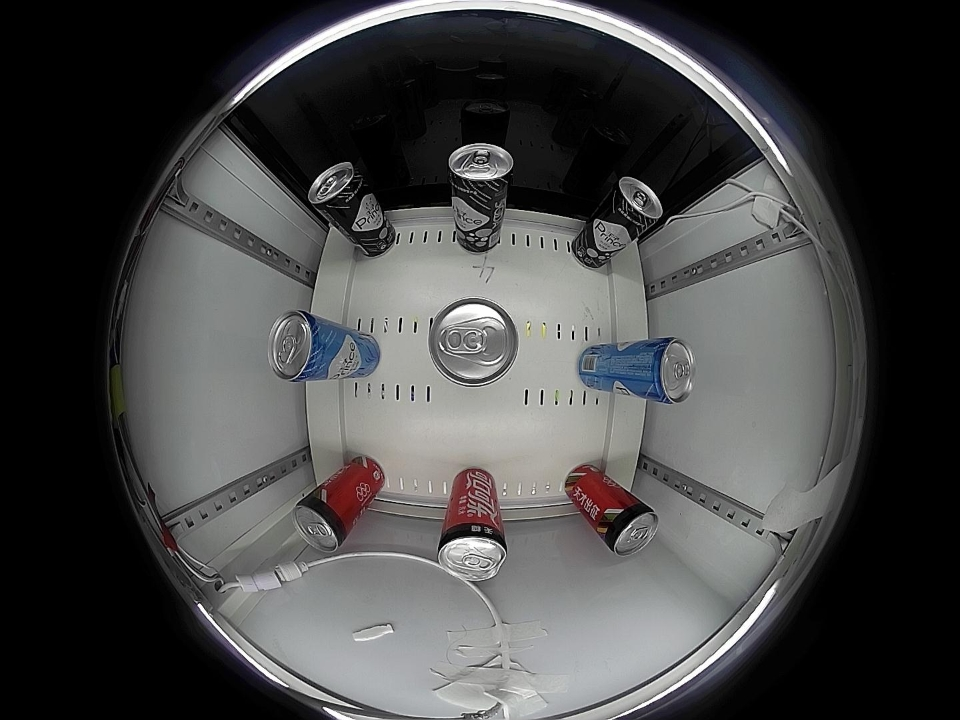lingdukele: (437, 517, 509, 582), (600, 499, 659, 557), (293, 495, 352, 552)
qingdaowangzi-1: (447, 142, 514, 205), (308, 162, 367, 219), (608, 176, 664, 232)
qingdaowangzi-2: (427, 297, 521, 387), (267, 310, 329, 382), (643, 337, 697, 404)
